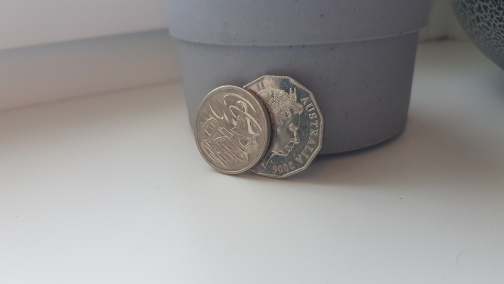coin: (241, 74, 325, 180), (195, 84, 271, 176)
